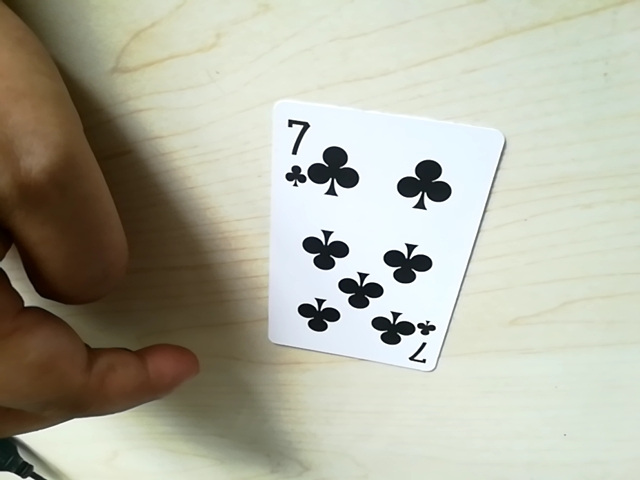mh 7: (276, 105, 316, 186), (400, 332, 442, 370)
